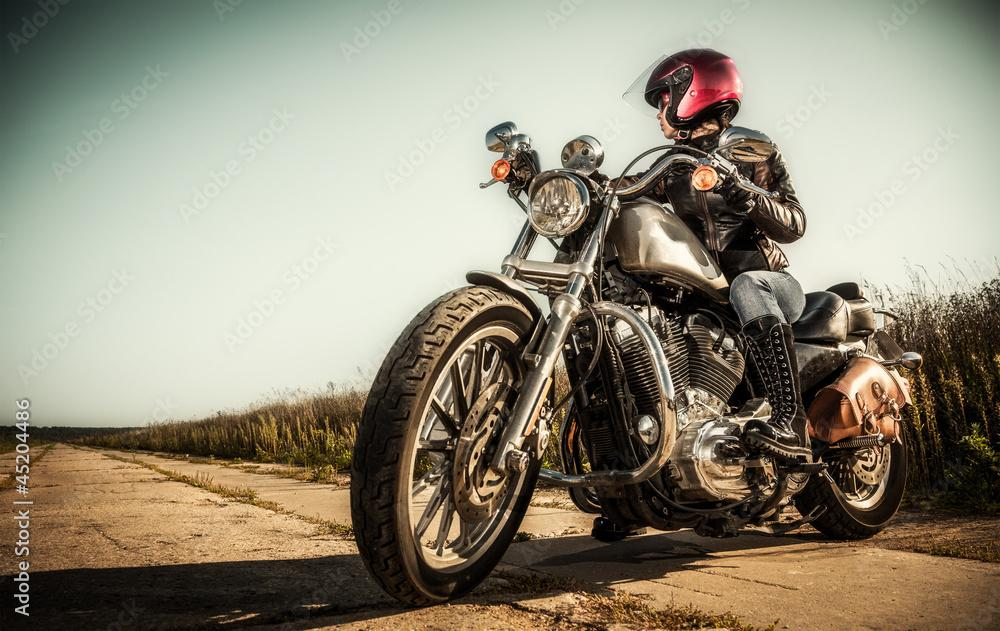helmet: (621, 47, 743, 144)
